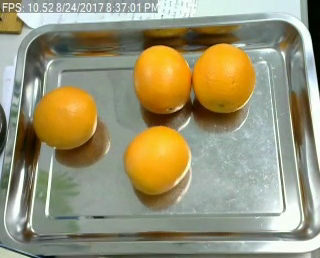Orange: (124, 123, 191, 195), (191, 43, 256, 112), (131, 45, 191, 114), (34, 86, 96, 148)
